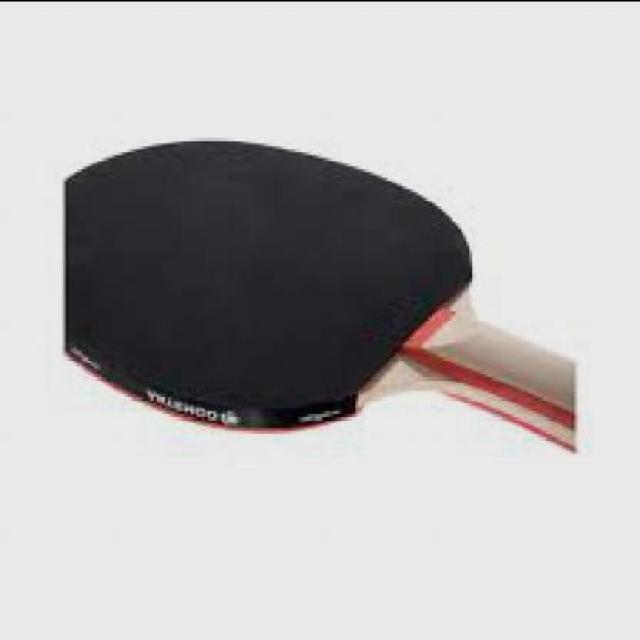table_tennis_racket: (55, 135, 483, 433)
